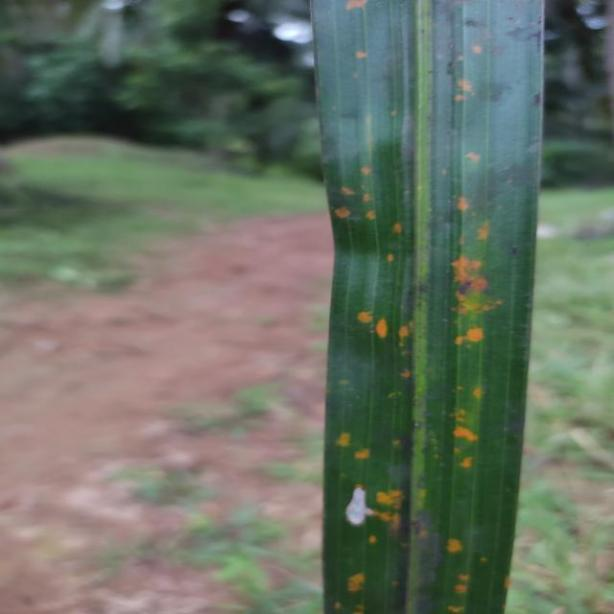Kalium: (310, 0, 542, 614)
